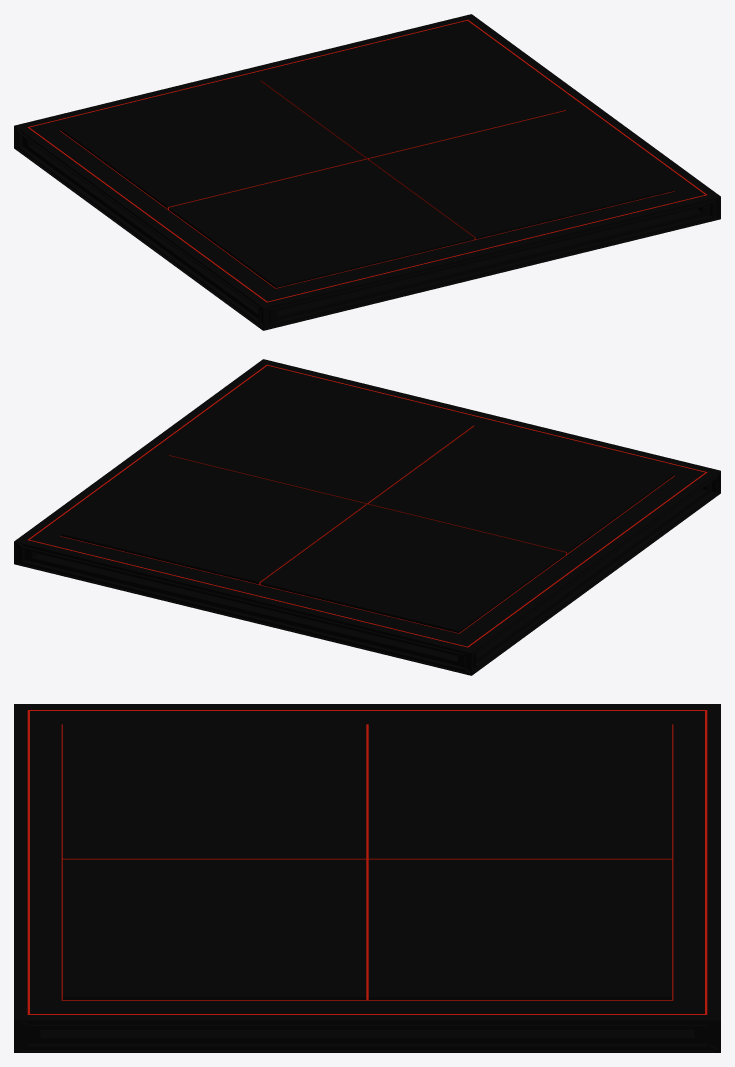
3 renders of one model, top to bottom at view 1: azimuth 30°, elevation 25°; view 2: azimuth 150°, elevation 25°; view 3: azimuth 270°, elevation 25°, orthographic. The views are drawn at different scales.
Parts seen in each view (by area): view 1: Box002; view 2: Box002; view 3: Box002.
Part boxes in pixels (x1,y1,x2,y2): Box002: (14,14,720,330); Box002: (14,359,720,675); Box002: (14,704,720,1052).
Bounding box in the file's own units: 540 × 32.45 × 510.
